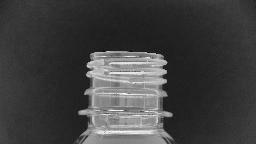No Cap: (72, 47, 176, 121)
